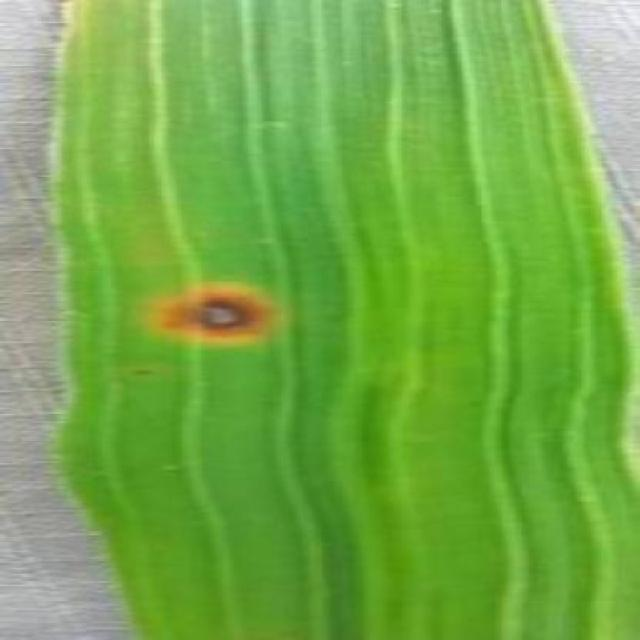Leaf_Blast: (135, 273, 283, 350), (225, 615, 320, 640), (119, 361, 161, 387)
